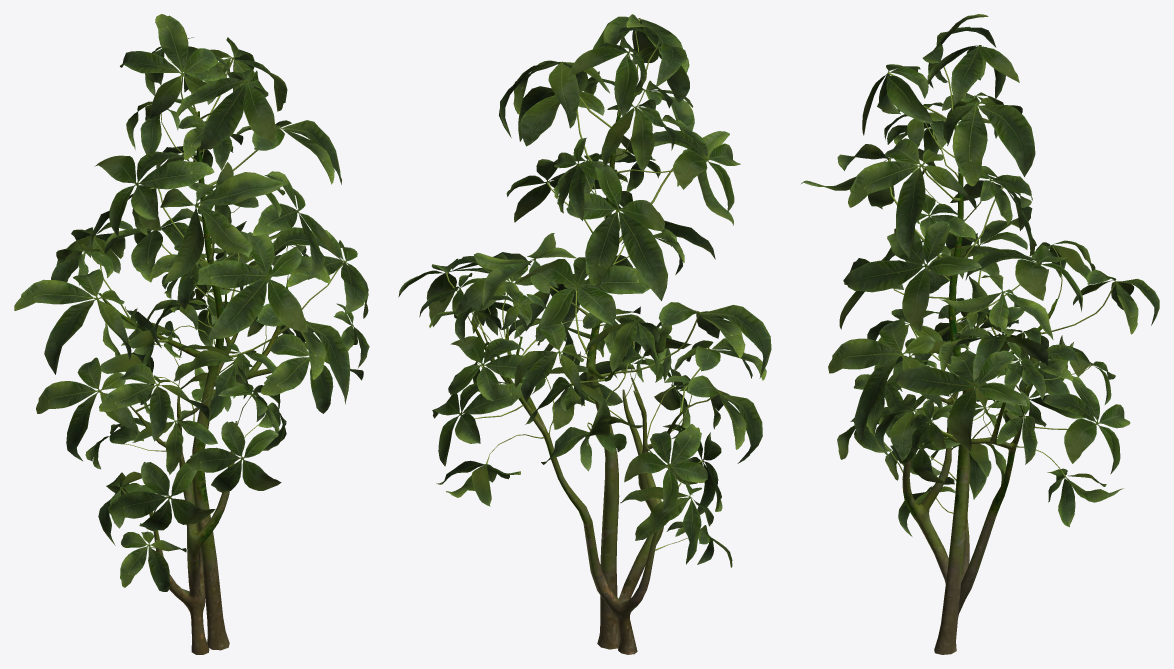
Rendered from pachira_aquatica_01.glb.
The picture shows the model from 3 angles, left to right: view 1: azimuth 30°, elevation 25°; view 2: azimuth 150°, elevation 25°; view 3: azimuth 270°, elevation 25°; orthographic projection. The views are drawn at different scales.
Visible parts, largest first — view 1: pachira_aquatica_01_leaves_d, pachira_aquatica_01_bark_d; view 2: pachira_aquatica_01_leaves_d, pachira_aquatica_01_bark_d; view 3: pachira_aquatica_01_leaves_d, pachira_aquatica_01_bark_d.
Boxes of the visible parts, x1,y1,x2,y2 form: pachira_aquatica_01_leaves_d: (14, 14, 369, 591); pachira_aquatica_01_bark_d: (99, 111, 287, 654); pachira_aquatica_01_leaves_d: (398, 14, 771, 567); pachira_aquatica_01_bark_d: (471, 112, 689, 654); pachira_aquatica_01_leaves_d: (801, 14, 1159, 536); pachira_aquatica_01_bark_d: (902, 126, 1057, 654).
Bounding box in the file's own units: 1.05 × 1.9 × 0.997.
Materials: 2 (2 with a texture image).
